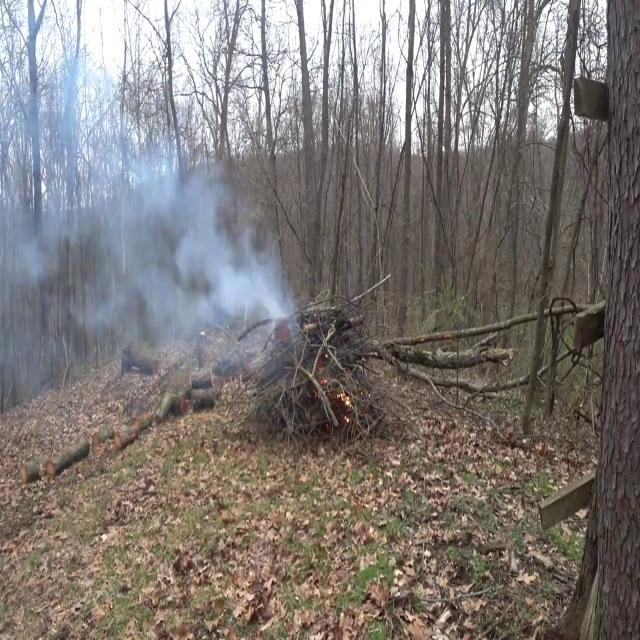Smoke: (0, 128, 294, 390)
